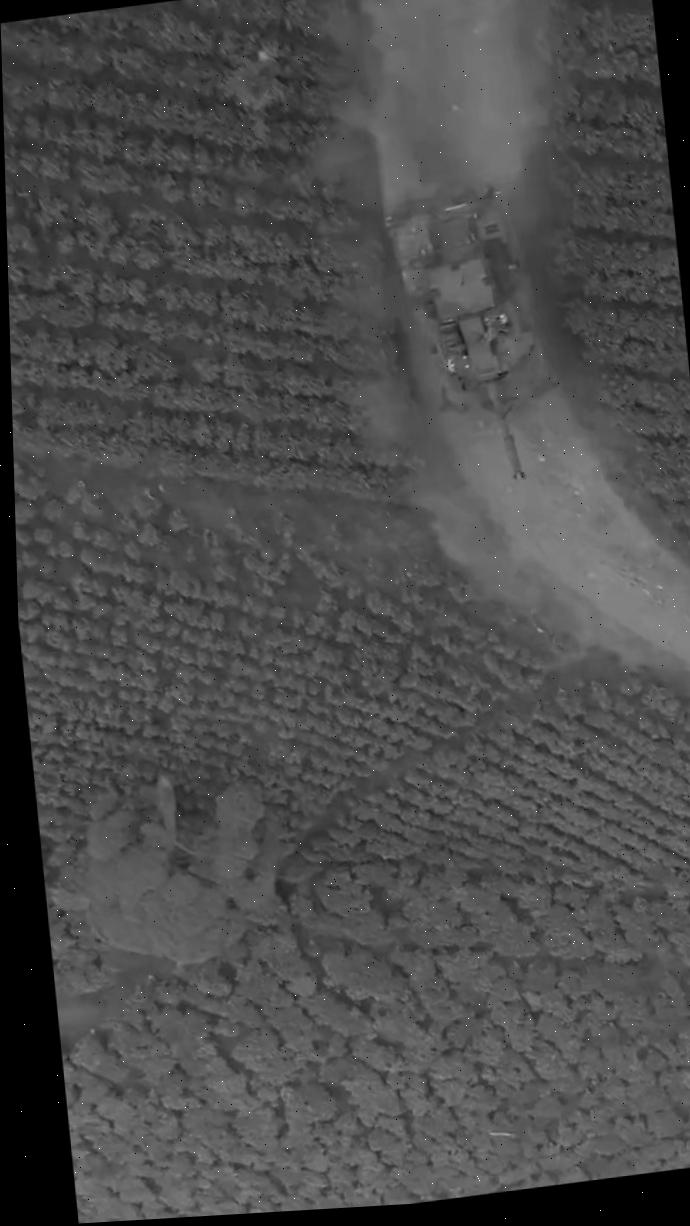tank: (369, 166, 568, 501)
